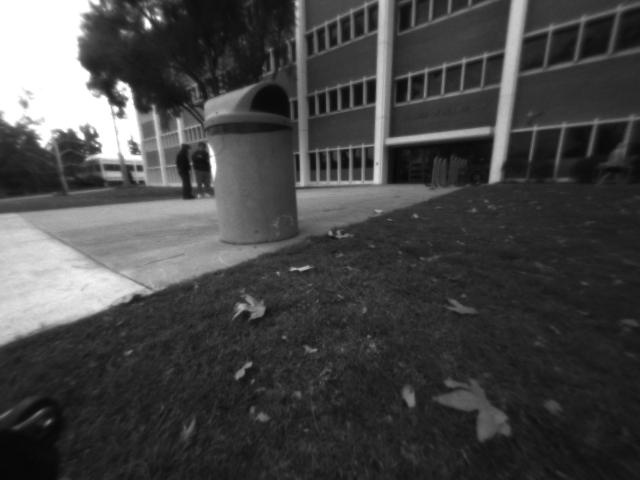trashcan: (200, 78, 306, 250)
